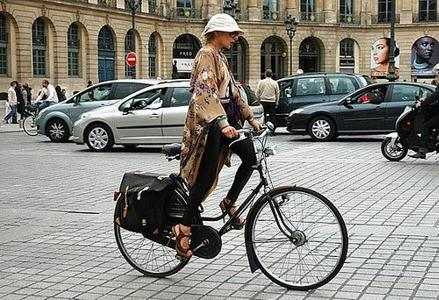person: (172, 14, 262, 261)
